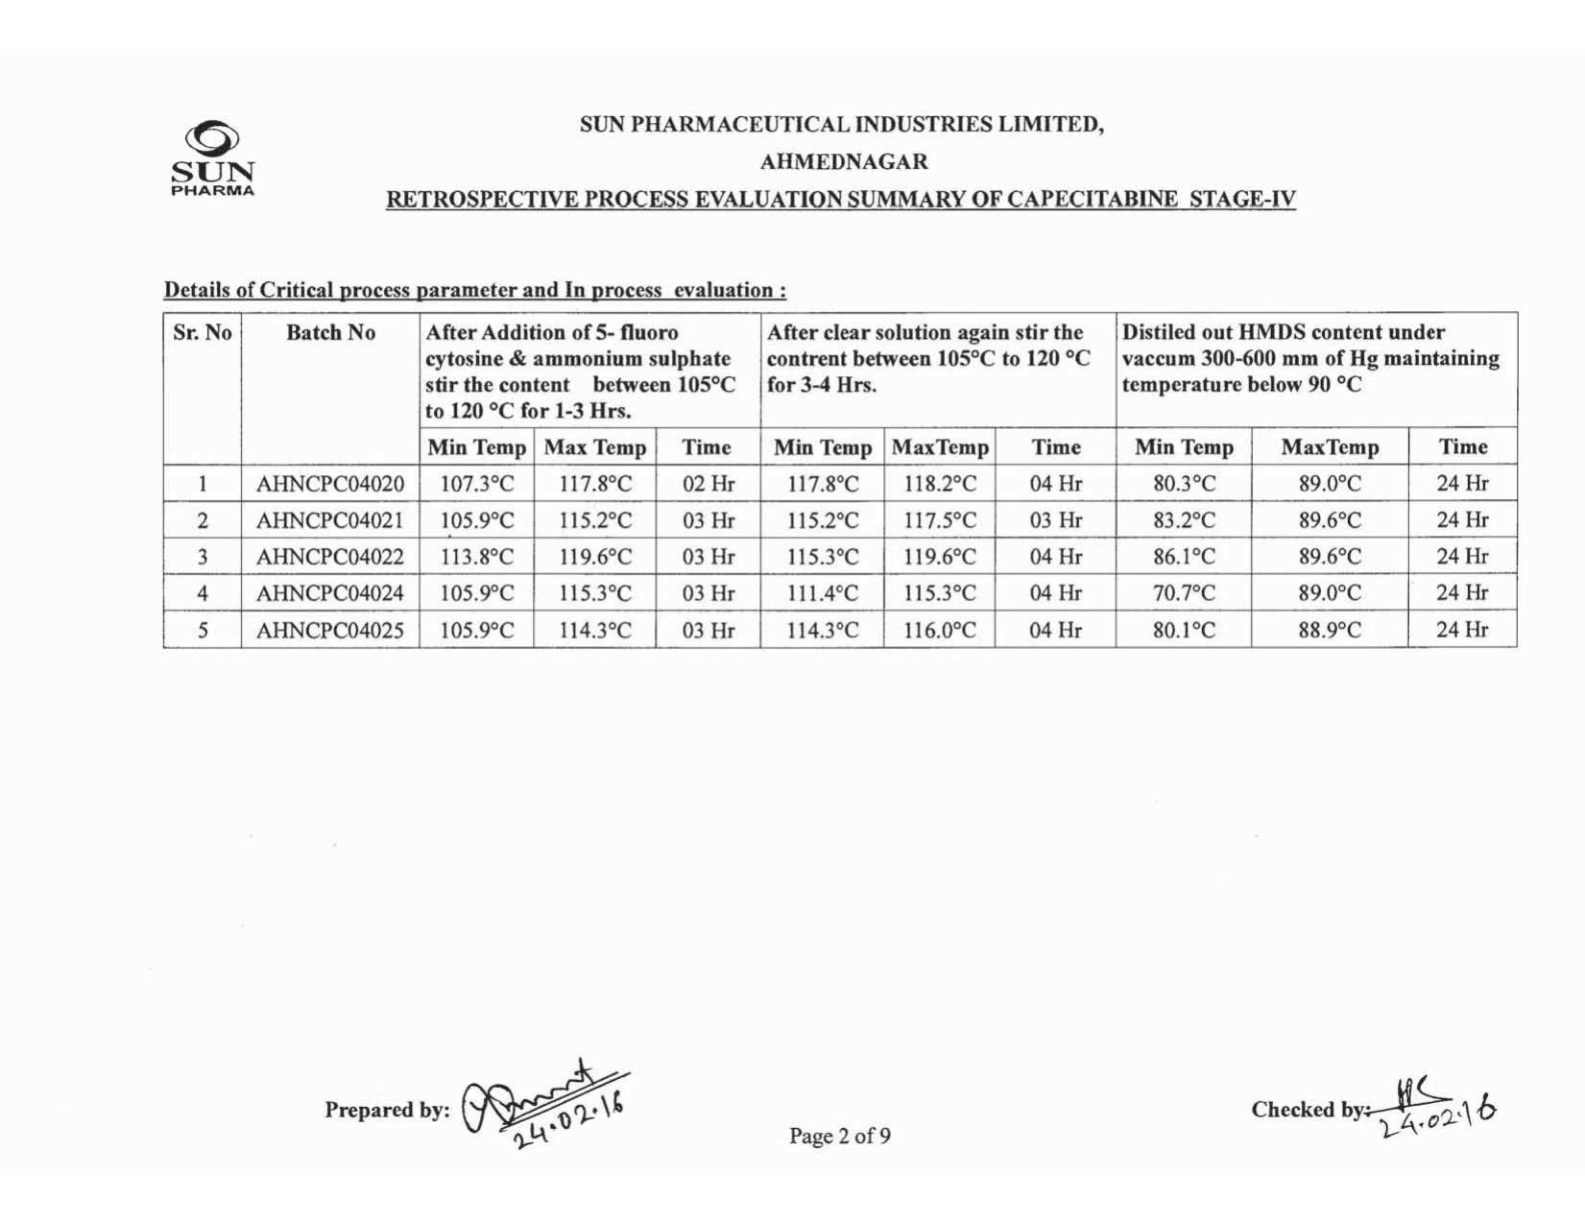merged_cells: (162, 311, 1519, 648)
